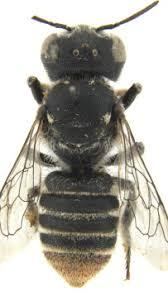Braunsapis: (3, 2, 168, 294)
